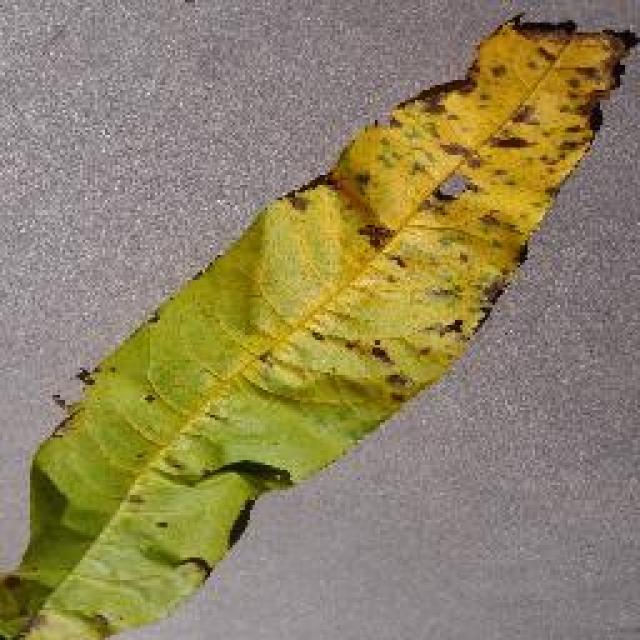Peach_Bacterial_Spot: (294, 51, 558, 316)
